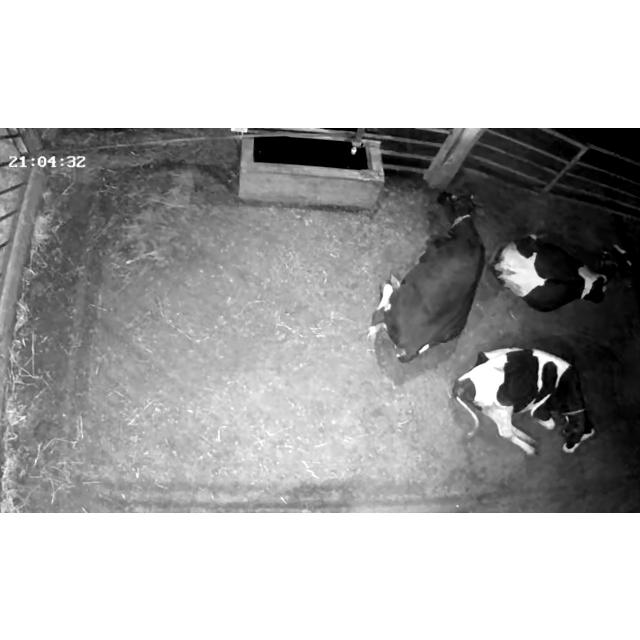lay: (368, 190, 485, 363), (451, 346, 595, 455), (488, 233, 635, 311)
